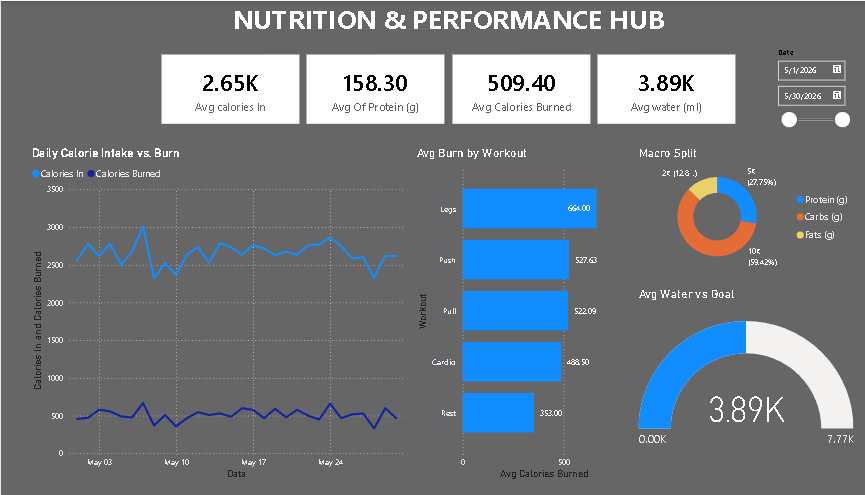

The page's visual inventory and layout, read from the dashboard file:
{"tool":"powerbi","page":{"name":"Page 1","canvas":[1280,720],"ordinal":0},"visuals":[{"type":"textbox","box":[316.8,0,645.1,77.8],"z":0},{"type":"cardVisual","fields":{"Data":["Avg(fitness_analytics_db daily_nutrition_fact.protein_g)"]},"box":[432,77.8,207.4,109.4],"z":1000},{"type":"cardVisual","fields":{"Data":["Avg(fitness_analytics_db daily_nutrition_fact.calories_consumed)"]},"box":[224.6,77.8,207.4,109.4],"z":2000},{"type":"cardVisual","fields":{"Data":["Avg(fitness_analytics_db daily_nutrition_fact.water_ml)"]},"box":[846.7,77.8,207.4,109.4],"z":3000},{"type":"cardVisual","fields":{"Data":["Avg(fitness_analytics_db daily_nutrition_fact.calories_burned)"]},"box":[639.4,77.8,207.4,109.4],"z":4000},{"type":"lineChart","title":"Daily Calorie Intake vs. Burn","fields":{"Y":["Sum(fitness_analytics_db daily_nutrition_fact.calories_consumed)","Sum(fitness_analytics_db daily_nutrition_fact.calories_burned)"],"Category":["fitness_analytics_db daily_nutrition_fact.log_date"]},"box":[38.6,212.9,550,481.4],"z":5000},{"type":"clusteredBarChart","title":"Avg Burn by Workout","fields":{"Category":["fitness_analytics_db daily_nutrition_fact.workout_type"],"Y":["Avg(fitness_analytics_db daily_nutrition_fact.calories_burned)"]},"box":[588.6,212.9,317.1,481.4],"z":6000},{"type":"slicer","fields":{"Values":["fitness_analytics_db daily_nutrition_fact.log_date"]},"box":[1097.1,67.1,125.7,120],"z":6001},{"type":"donutChart","title":"Macro Split","fields":{"Y":["Sum(fitness_analytics_db daily_nutrition_fact.protein_g)","Sum(fitness_analytics_db daily_nutrition_fact.carbs_g)","Sum(fitness_analytics_db daily_nutrition_fact.fats_g)"]},"box":[905.7,212.9,318.6,182.9],"z":6002},{"type":"gauge","title":"Avg Water vs Goal","fields":{"Y":["Avg(fitness_analytics_db daily_nutrition_fact.water_ml)"]},"box":[905.7,414.3,317.1,262.9],"z":6003}]}

Visuals, with their boxes in screenshot pixels (x1, y1, x2, y2), scaled from the page's 1280x720 canvas onto the 865x495 screenshot:
textbox: bbox=[214, 0, 650, 53]
cardVisual - Avg(fitness_analytics_db daily_nutrition_fact.protein_g): bbox=[292, 53, 432, 129]
cardVisual - Avg(fitness_analytics_db daily_nutrition_fact.calories_consumed): bbox=[152, 53, 292, 129]
cardVisual - Avg(fitness_analytics_db daily_nutrition_fact.water_ml): bbox=[572, 53, 712, 129]
cardVisual - Avg(fitness_analytics_db daily_nutrition_fact.calories_burned): bbox=[432, 53, 572, 129]
"Daily Calorie Intake vs. Burn" lineChart: bbox=[26, 146, 398, 477]
"Avg Burn by Workout" clusteredBarChart: bbox=[398, 146, 612, 477]
slicer - fitness_analytics_db daily_nutrition_fact.log_date: bbox=[741, 46, 826, 129]
"Macro Split" donutChart: bbox=[612, 146, 827, 272]
"Avg Water vs Goal" gauge: bbox=[612, 285, 826, 466]
